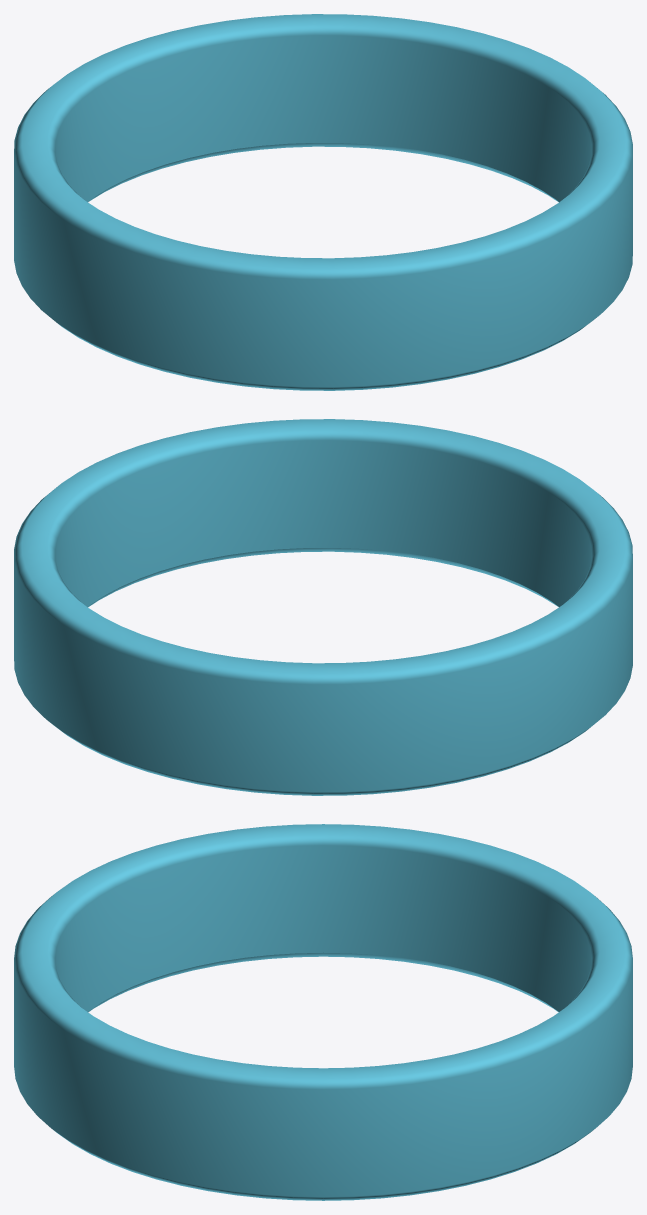
3 renders of one model, top to bottom at view 1: azimuth 30°, elevation 25°; view 2: azimuth 150°, elevation 25°; view 3: azimuth 270°, elevation 25°, orthographic.
Parts seen in each view (by area): view 1: seal_body; view 2: seal_body; view 3: seal_body.
Part boxes in pixels (x1,y1,x2,y2): seal_body: (14,14,632,390); seal_body: (14,419,632,795); seal_body: (14,824,632,1200).
Size of the model in its own units: 0.0292 by 0.00635 by 0.0292.
